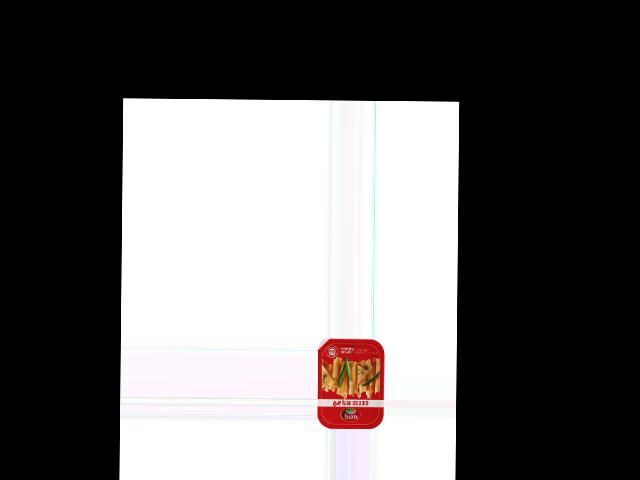cheese: (317, 338, 385, 429)
